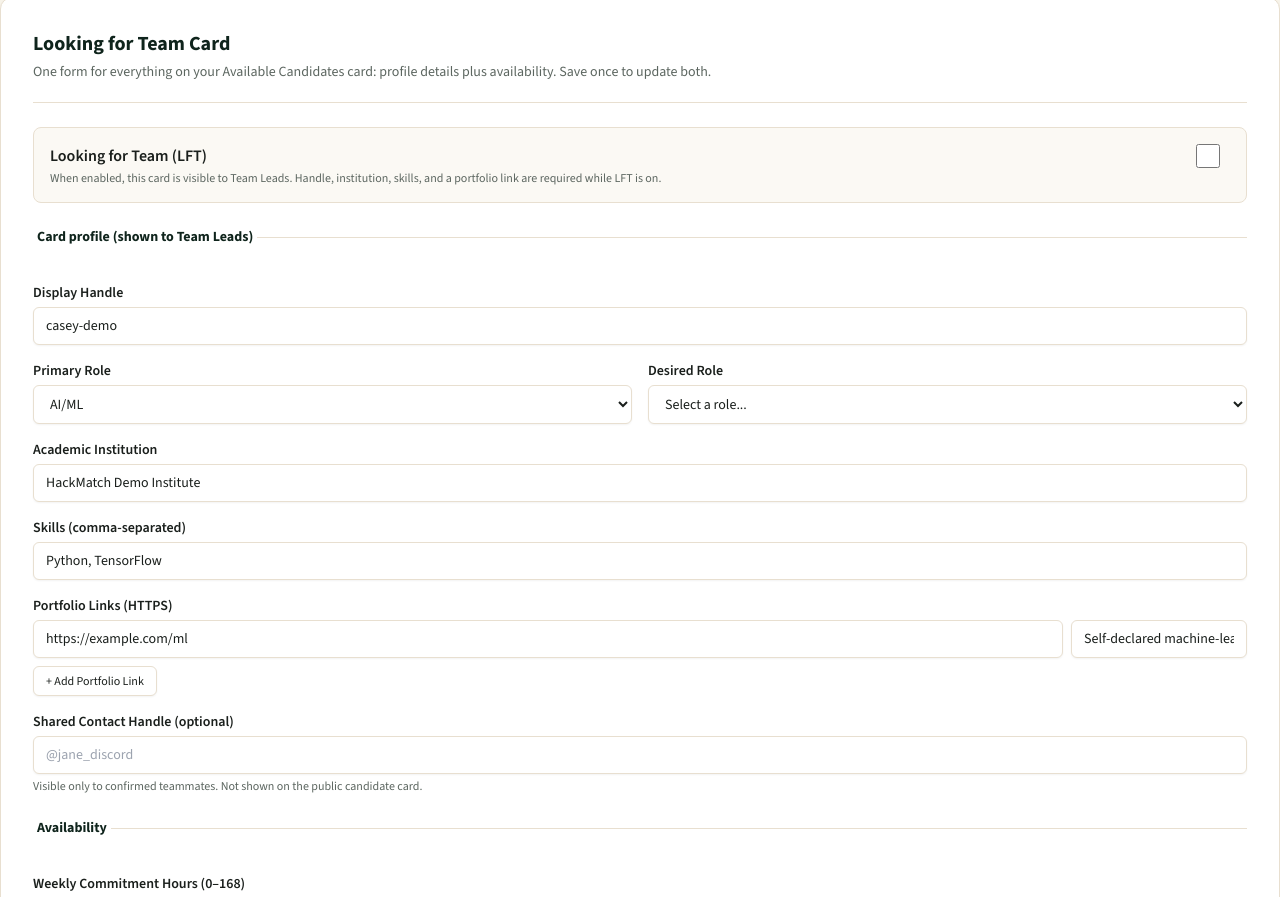
Scenario: AvailabilityPreferencesForm (combined Looking for Team card) › saves profile then availability with one submit
Expected: the field showing "casey-demo" is shown, [33,307,1247,345]
Click the switch labelled "Looking for Team (LFT)" at (1208,156), box [1186,144,1230,168]
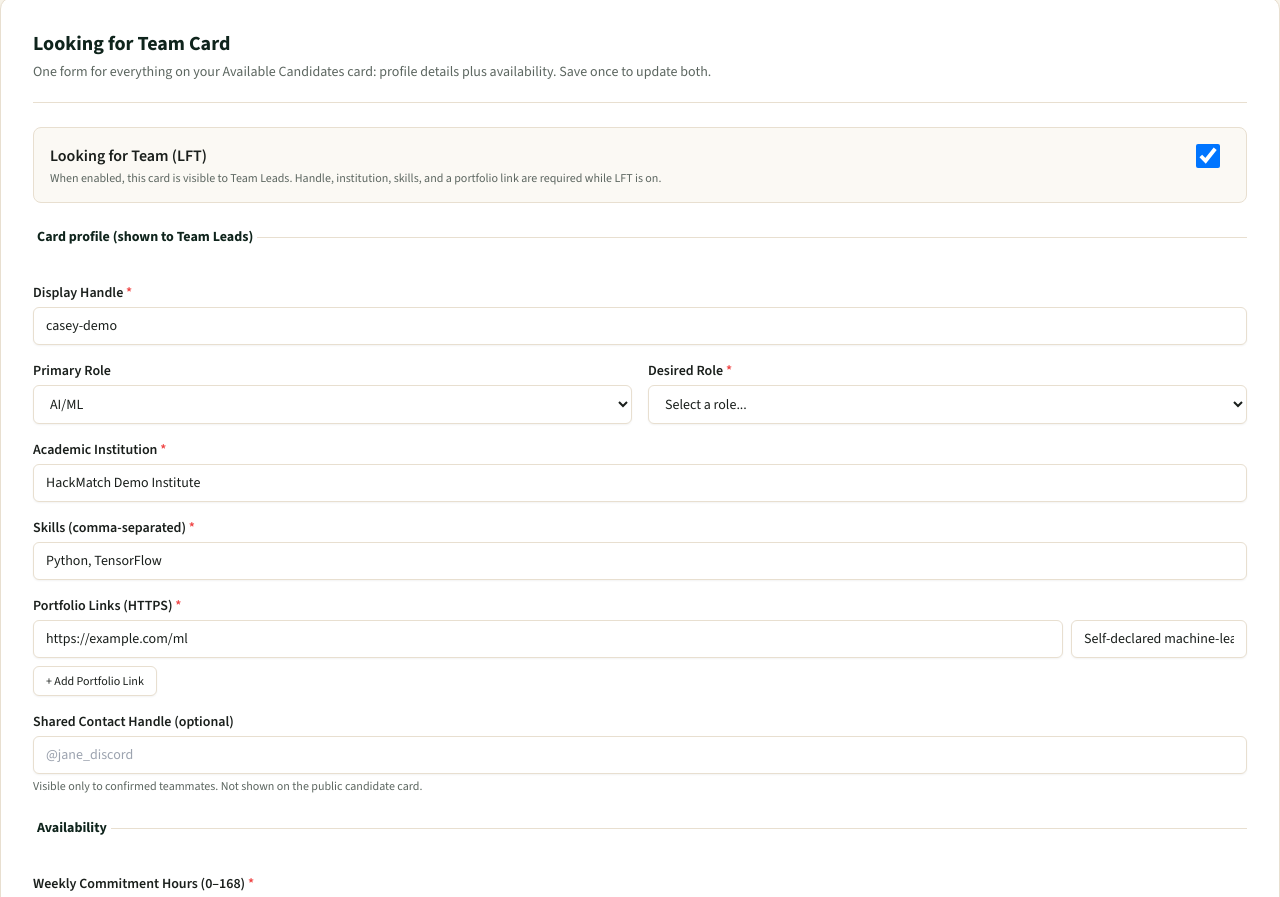
Select "AI/ML" in the dropdown labelled "Desired Role *" at (948,404), box [648,385,1247,424]
(page scrolled)
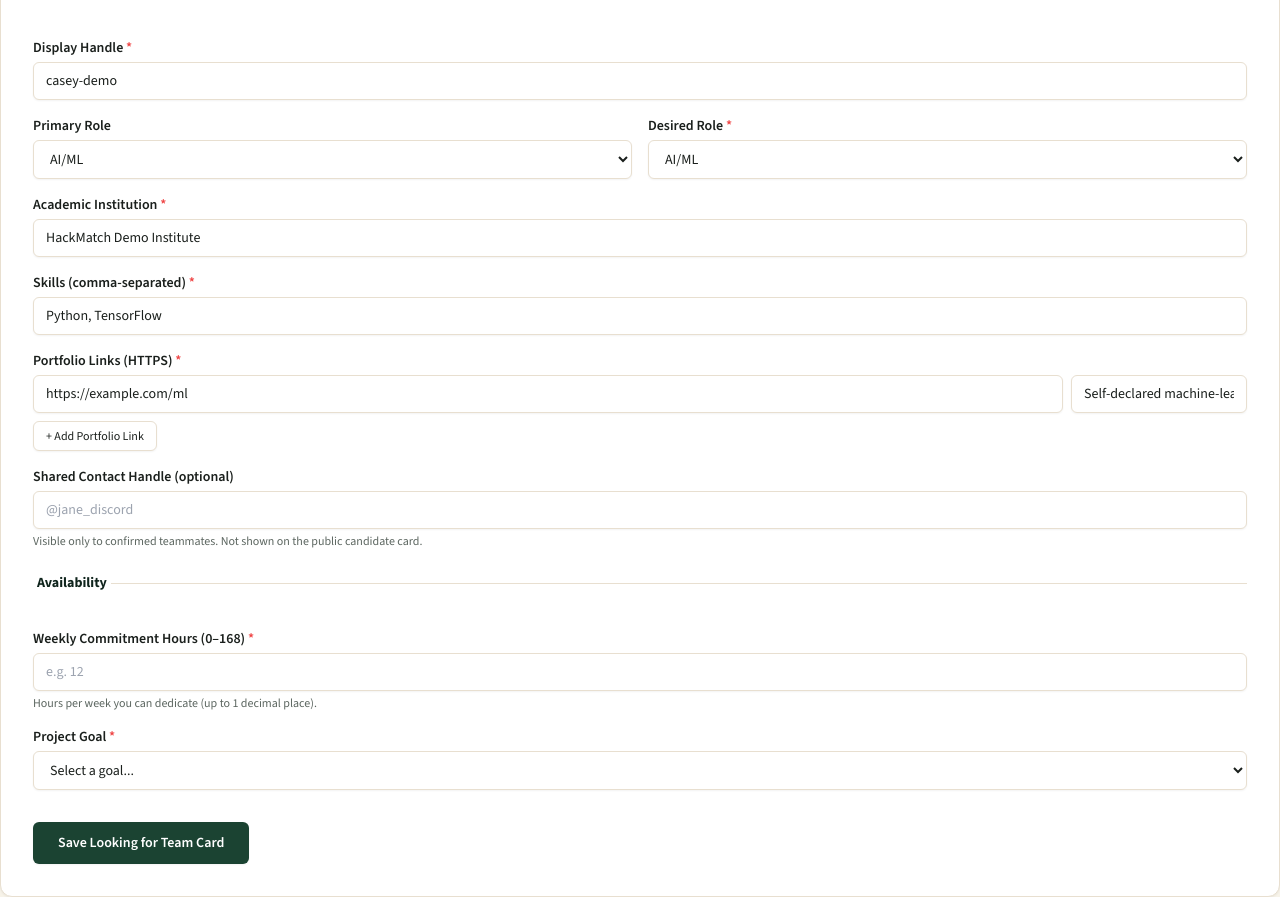
Type "12" into the number field labelled "Weekly Commitment Hours (0–168) *" at (640,672), box [33,653,1247,691]
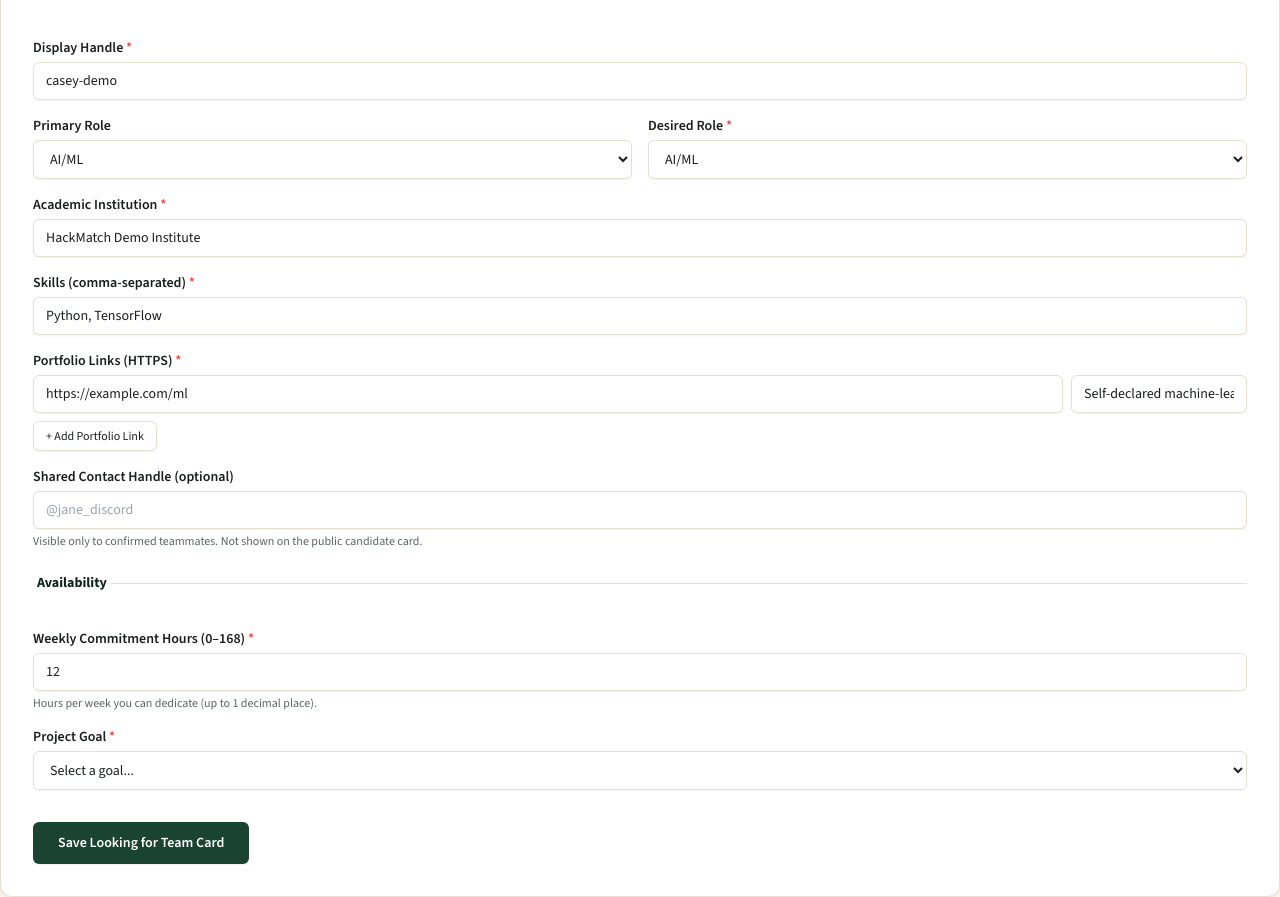
Select "Learning" in the dropdown labelled "Project Goal *" at (640,770), box [33,751,1247,790]
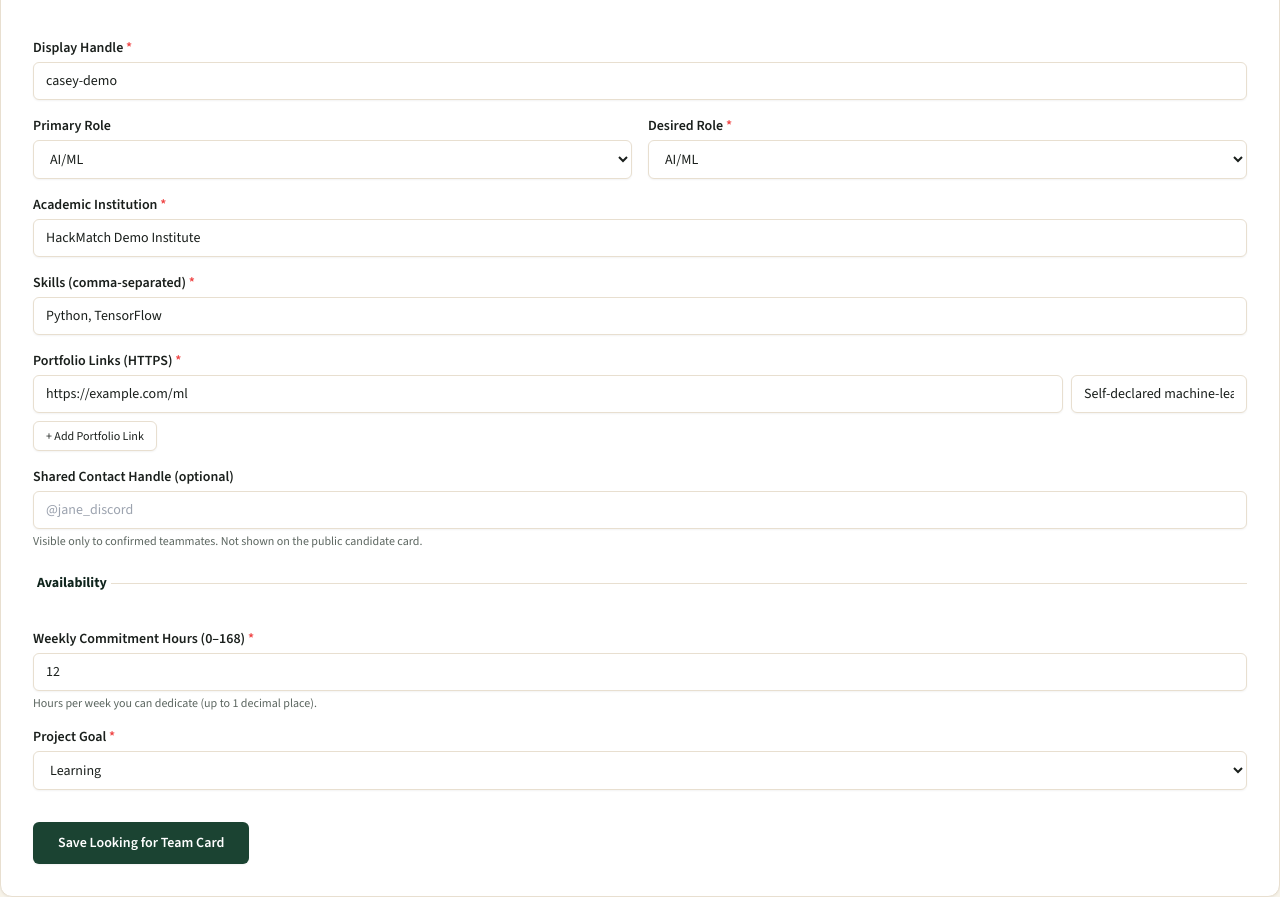
Click the button "Save Looking for Team Card" at (141,843), box [33,822,249,864]
(page scrolled)
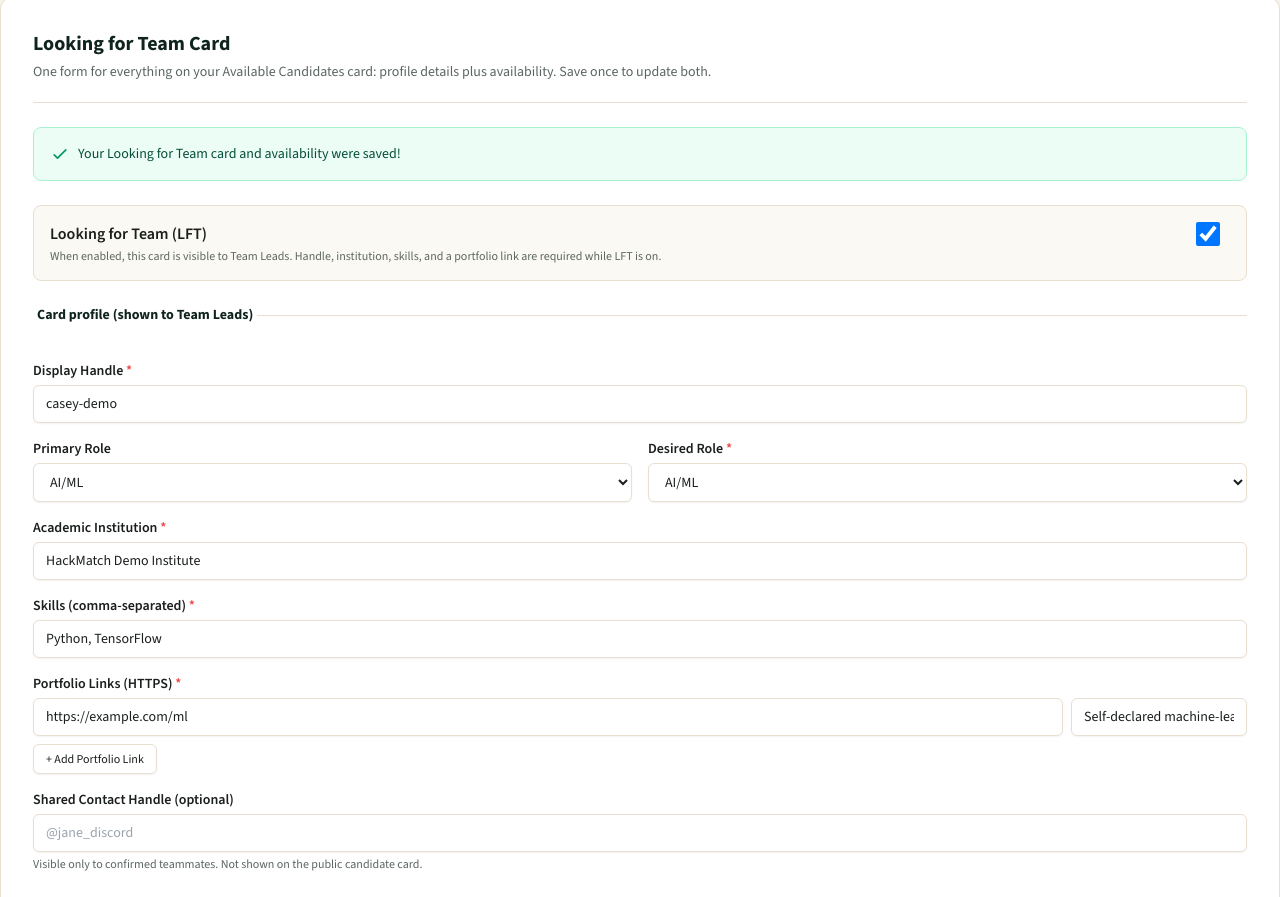
Expected: the message shows "Looking for Team card and availability were saved", [78,144,401,163]
